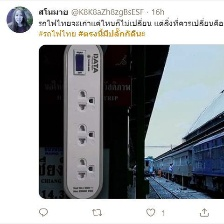three_eye_plug: (59, 43, 106, 198)
